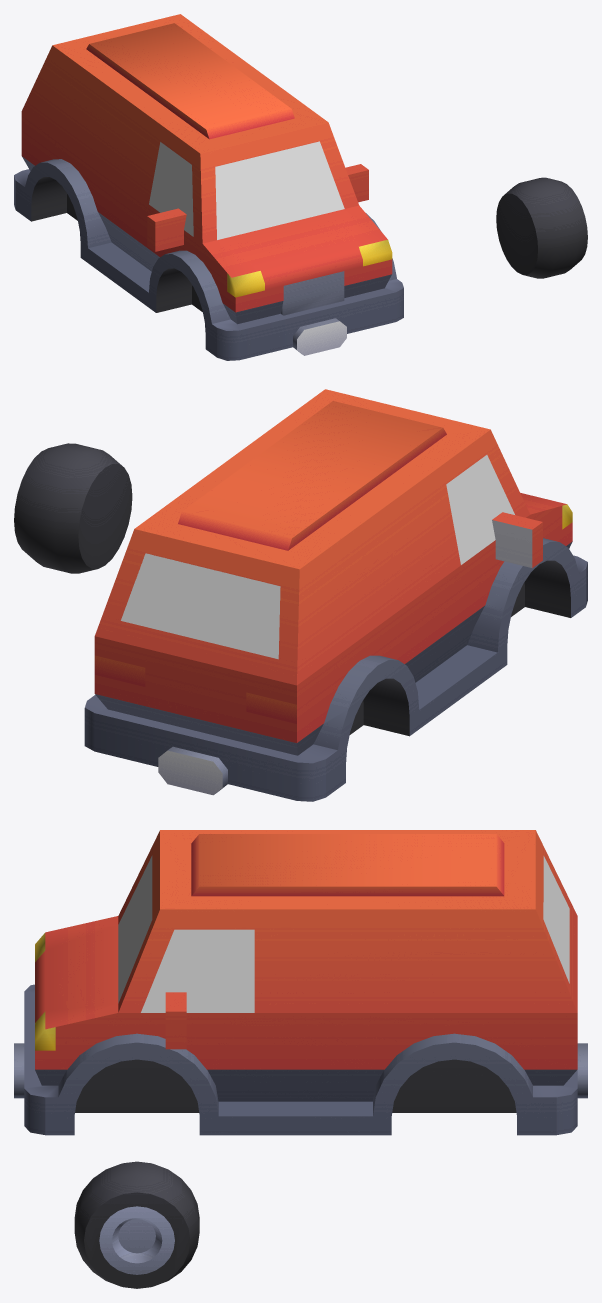
File: vanRedbodyAndwheel.glb
3 renders of one model, top to bottom at view 1: azimuth 30°, elevation 25°; view 2: azimuth 150°, elevation 25°; view 3: azimuth 270°, elevation 25°, orthographic. The views are drawn at different scales.
Visible parts, largest first — view 1: body, bodyFrontWindow, wheel-front-left, body.001; view 2: body, wheel-front-left, bodyRearWindow, body.001; view 3: body, wheel-front-left, bodyLeftWindow, bodyFrontWindow, bodyRearWindow.
Boxes of the visible parts, <box> form: body: <box>14,14,403,360</box>; bodyFrontWindow: <box>215,141,344,239</box>; wheel-front-left: <box>496,177,587,278</box>; body.001: <box>149,142,193,236</box>; body: <box>84,389,587,801</box>; wheel-front-left: <box>14,443,132,573</box>; bodyRearWindow: <box>121,553,280,659</box>; body.001: <box>446,455,514,564</box>; body: <box>14,830,587,1135</box>; wheel-front-left: <box>74,1161,199,1288</box>; bodyLeftWindow: <box>141,929,254,1012</box>; bodyFrontWindow: <box>118,855,152,1003</box>; bodyRearWindow: <box>543,856,569,983</box>.
Bounding box in the file's own units: 2.81 × 1.35 × 2.75.
2 materials, 1 textured.
